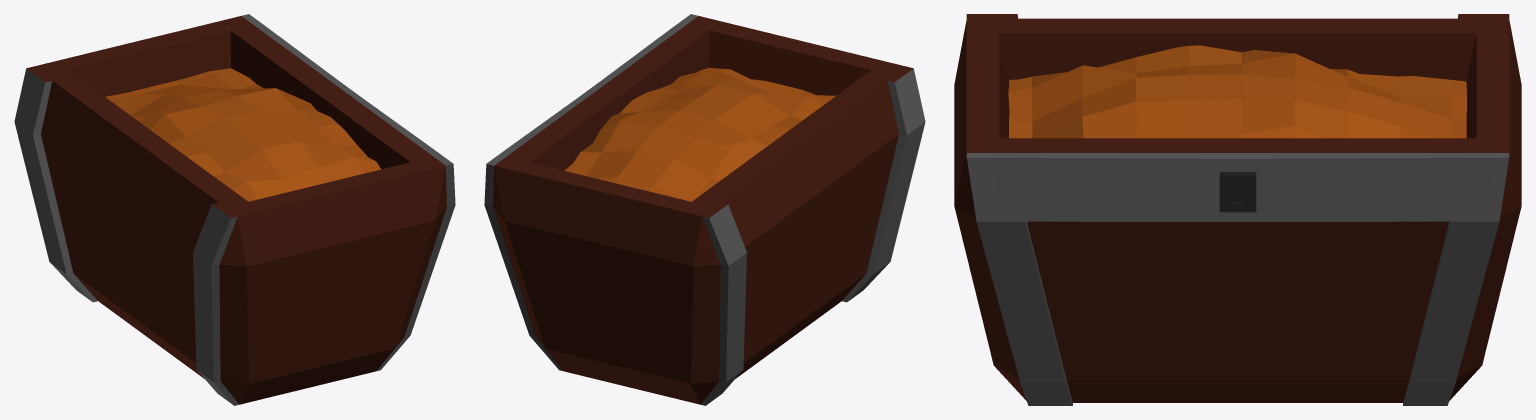
The model's file is ChestGold.obj.
The picture shows the model from 3 angles, left to right: view 1: azimuth 30°, elevation 25°; view 2: azimuth 150°, elevation 25°; view 3: azimuth 270°, elevation 25°; orthographic projection. The views are drawn at different scales.
Parts seen in each view (by area): view 1: ChestBottom_Cube.024; view 2: ChestBottom_Cube.024; view 3: ChestBottom_Cube.024.
Part boxes in pixels (<box>): ChestBottom_Cube.024: <box>14,14,455,405</box>; ChestBottom_Cube.024: <box>484,14,925,405</box>; ChestBottom_Cube.024: <box>954,14,1521,405</box>.
Size of the model in its own units: 0.7475 by 0.6134 by 1.12.
